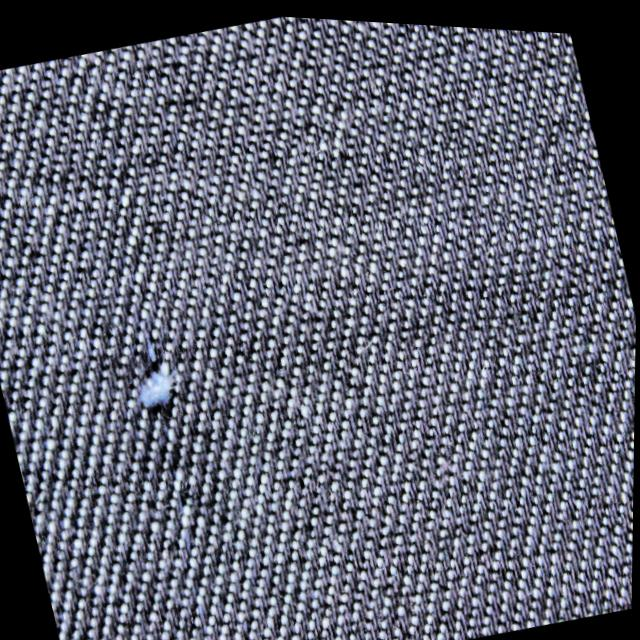Hole: (138, 324, 212, 636)
